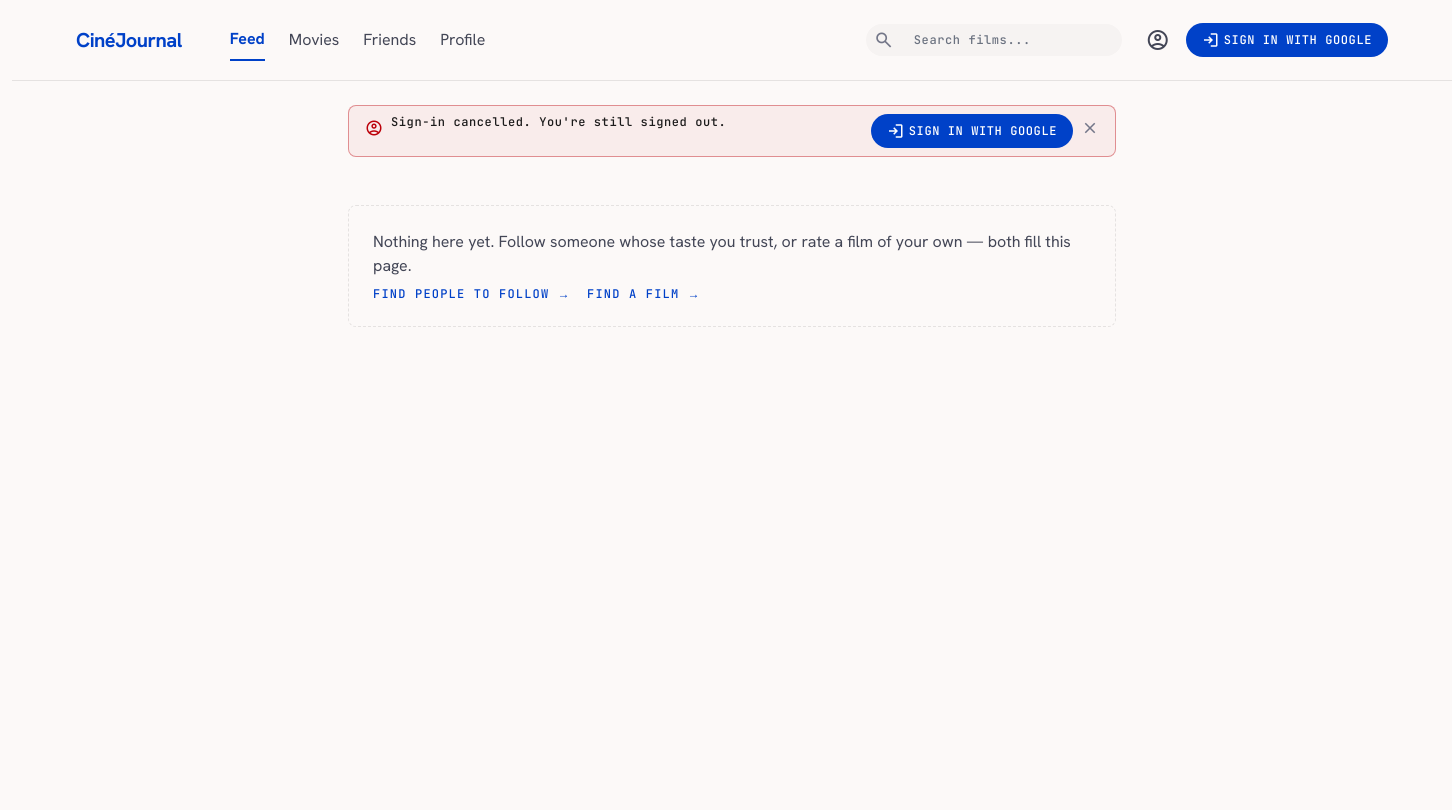
Test: a sign-in that did not finish › drops the parameter from the URL when dismissed, so a refresh cannot bring it back
Click the button named "Dismiss" at (1090, 128), box [1081,114,1099,142]
(page scrolled)
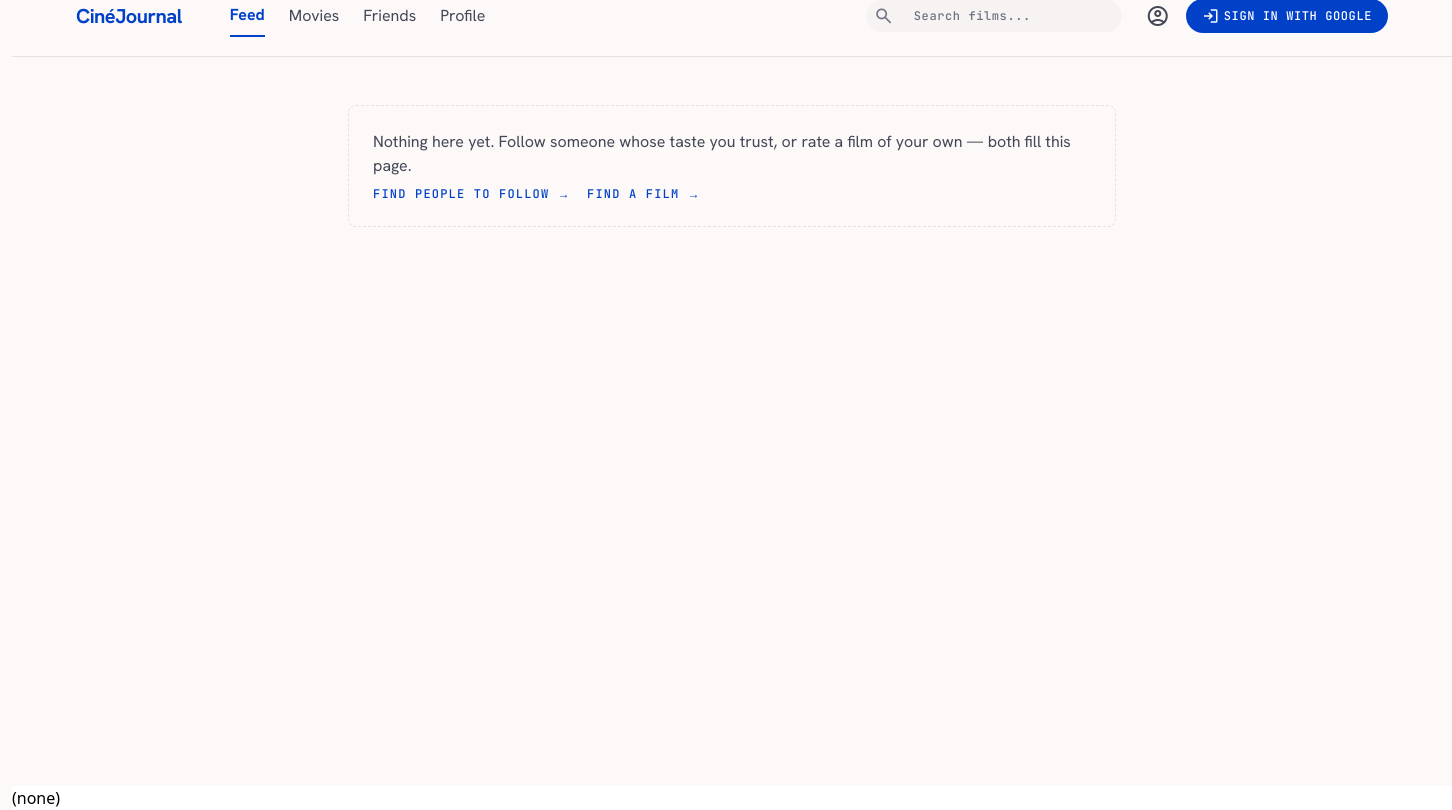
Result: the text "(none)" is shown at [12,787,60,809]
Result: the text "Sign-in cancelled" is gone
